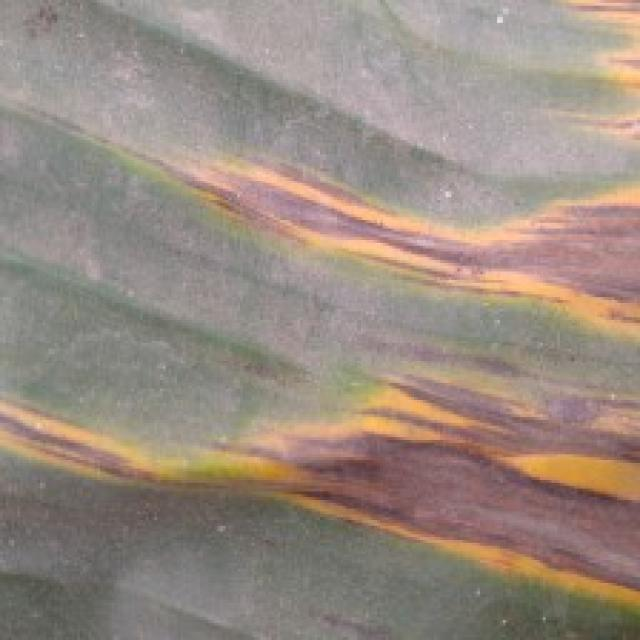Early_leaf_spot: (0, 350, 640, 600), (151, 110, 639, 348), (490, 0, 639, 112)
